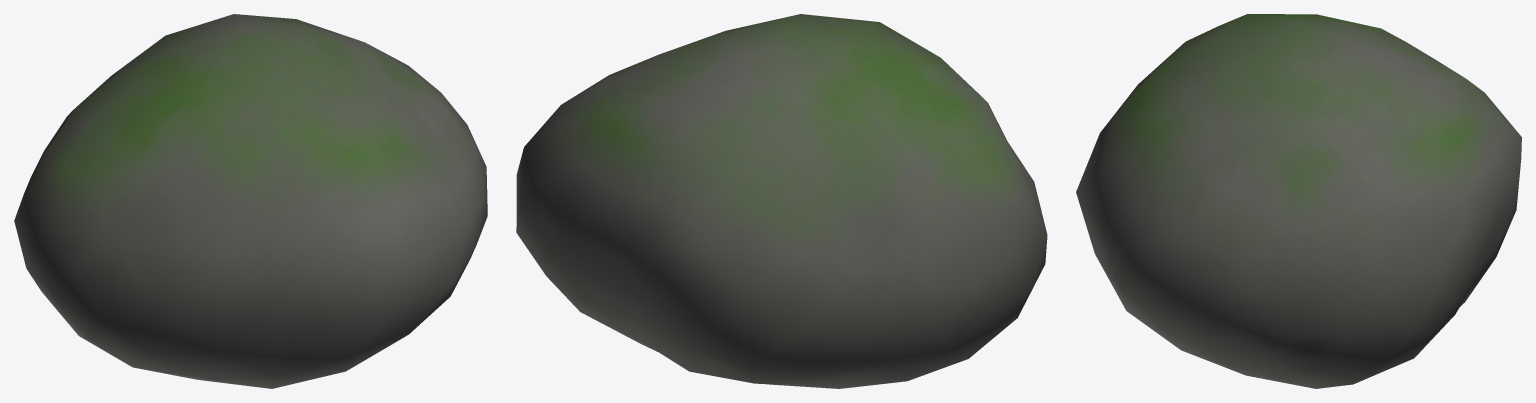
Rendered from rock_small.glb.
3 views of the same model, side by side, from view 1: azimuth 30°, elevation 25°; view 2: azimuth 150°, elevation 25°; view 3: azimuth 270°, elevation 25° (orthographic). The views are drawn at different scales.
Parts seen in each view (by area): view 1: rock_small; view 2: rock_small; view 3: rock_small.
Boxes of the visible parts, bbox=[...] form: rock_small: bbox=[14, 14, 487, 388]; rock_small: bbox=[516, 14, 1047, 388]; rock_small: bbox=[1076, 14, 1521, 388].
Size of the model in its own units: 1.14 by 0.8096 by 1.01.
Materials: 1 (1 with a texture image).
